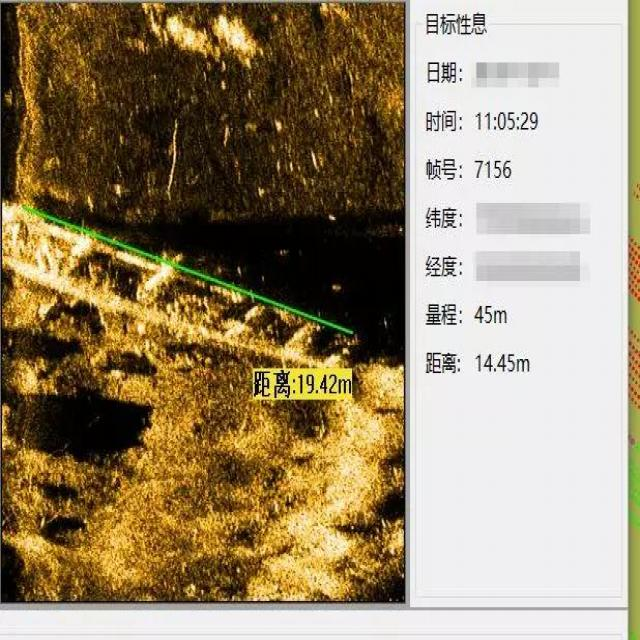ship: (0, 203, 349, 371)
